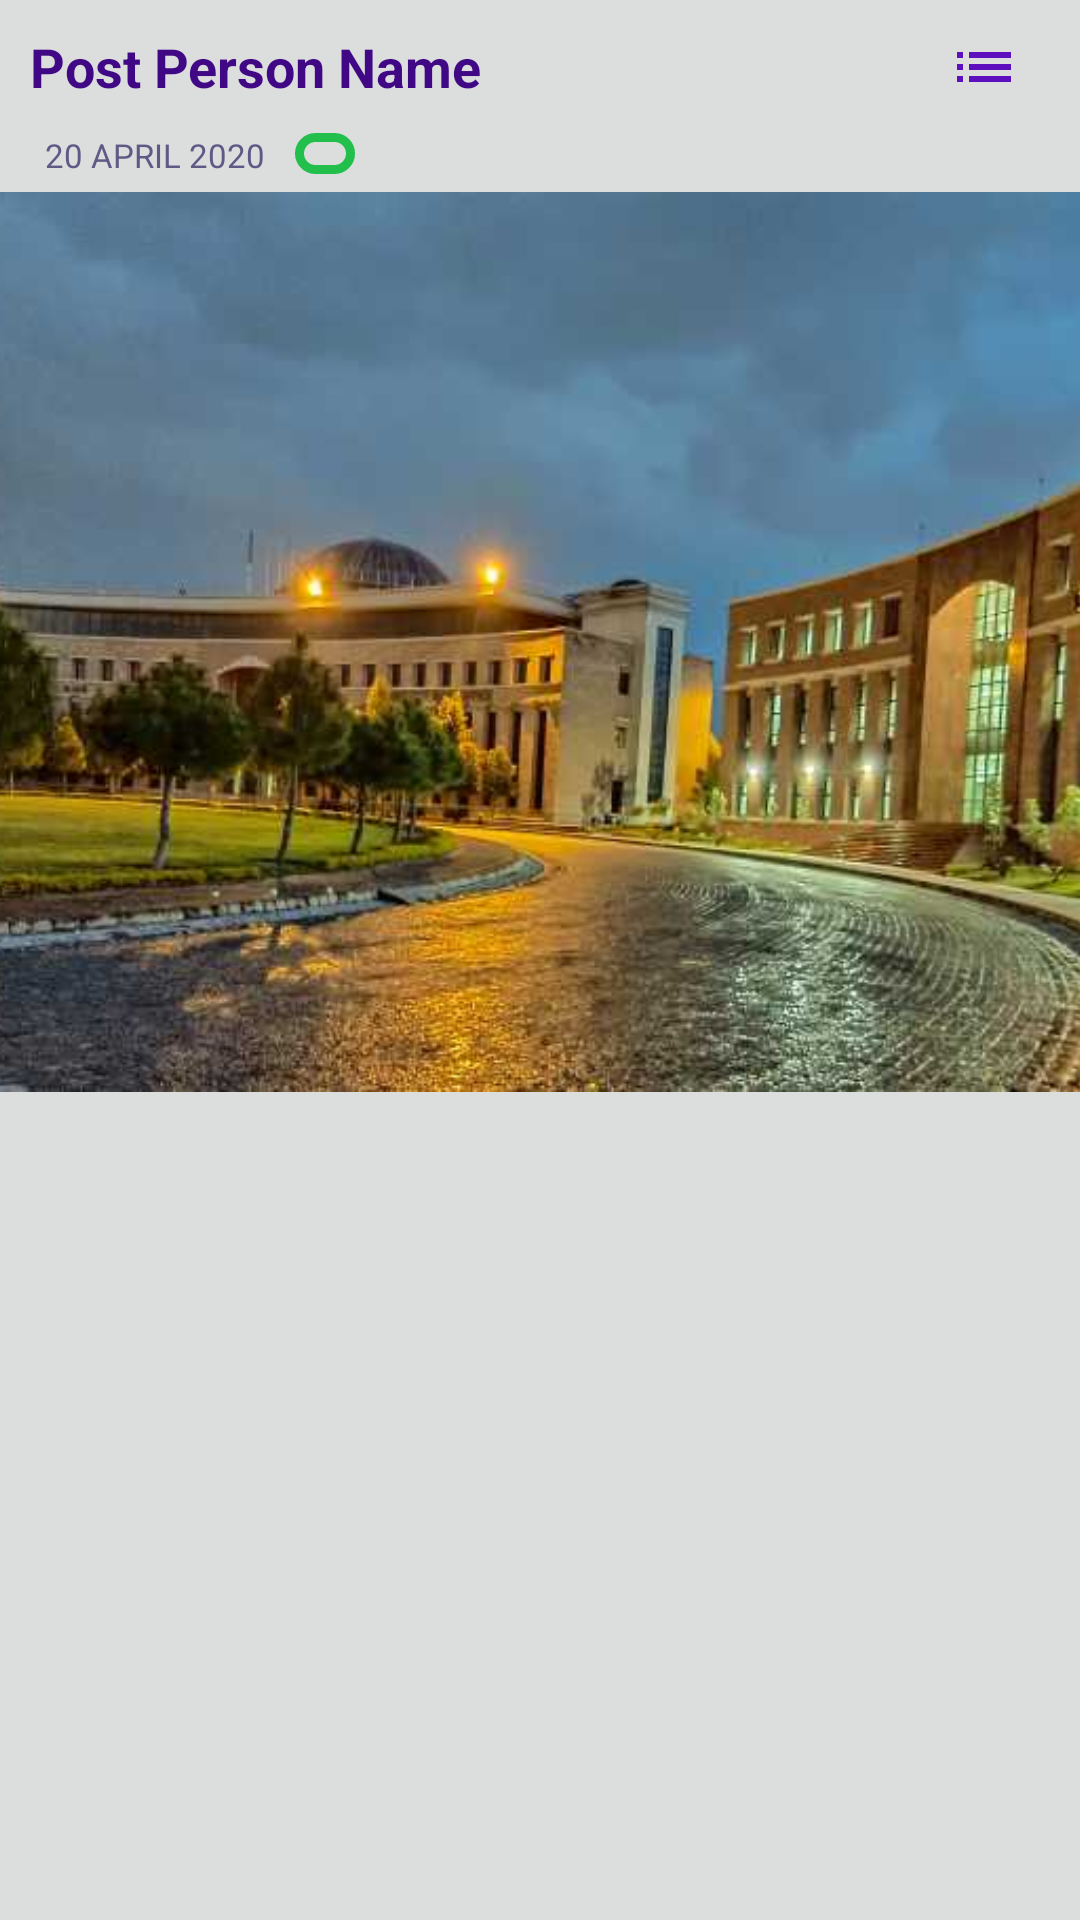

Icon click points for this 1080px×1920px phone screenshot, format (x,y):
list: (984,67)
